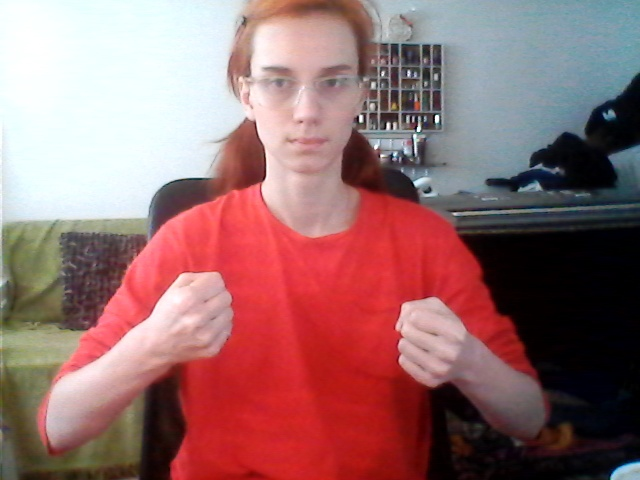auto: (148, 267, 482, 402)
